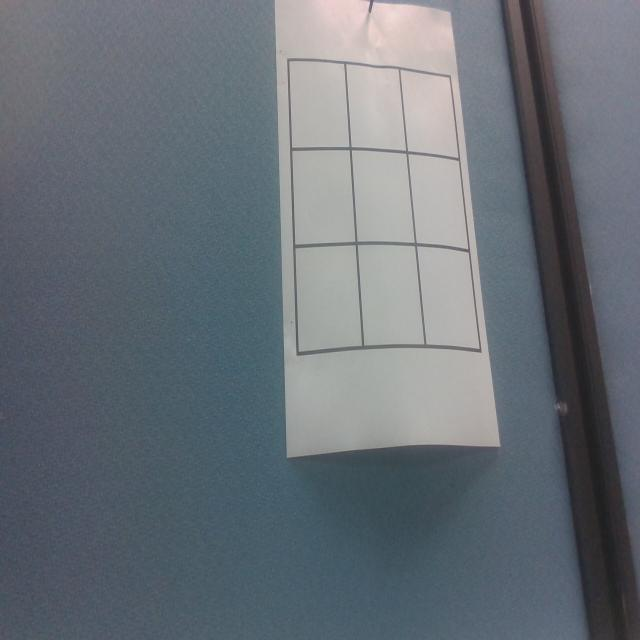null: (296, 244, 363, 356), (360, 244, 424, 350), (418, 245, 480, 353), (354, 148, 415, 245), (294, 149, 355, 245), (411, 153, 468, 251), (347, 64, 408, 155), (403, 67, 459, 159), (291, 59, 348, 146)
table: (286, 52, 483, 357)
